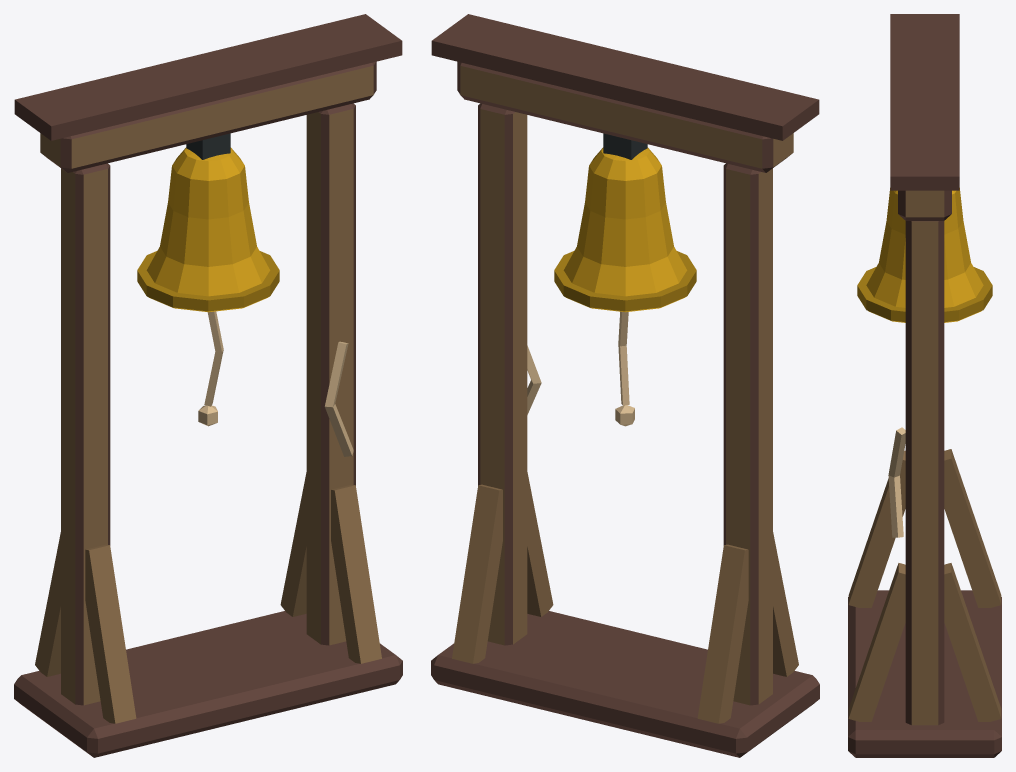
File: schiffsglocke.glb
3 views of the same model, side by side, from view 1: azimuth 30°, elevation 25°; view 2: azimuth 150°, elevation 25°; view 3: azimuth 270°, elevation 25° (orthographic). The views are drawn at different scales.
Visible parts, largest first — view 1: schiffsglocke-m, glocke-m; view 2: schiffsglocke-m, glocke-m; view 3: schiffsglocke-m, glocke-m.
Part boxes in pixels (left/top/right/bottom): schiffsglocke-m: left=14, top=14, right=402, bottom=757; glocke-m: left=137, top=133, right=279, bottom=426; schiffsglocke-m: left=431, top=14, right=819, bottom=757; glocke-m: left=554, top=133, right=696, bottom=426; schiffsglocke-m: left=848, top=14, right=1001, bottom=757; glocke-m: left=857, top=188, right=992, bottom=322.
Bounding box in the file's own units: 1 × 1.7 × 0.4.
